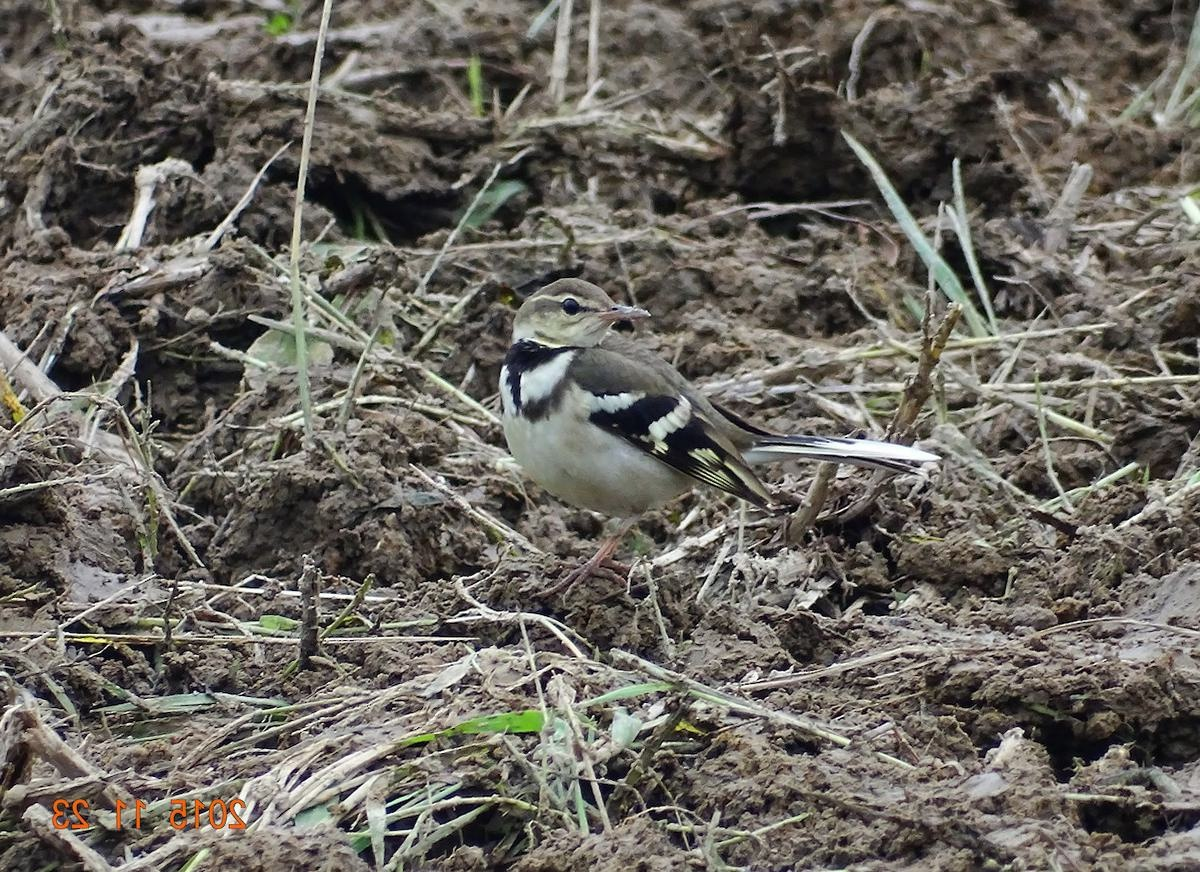wagtail: (508, 261, 810, 553)
